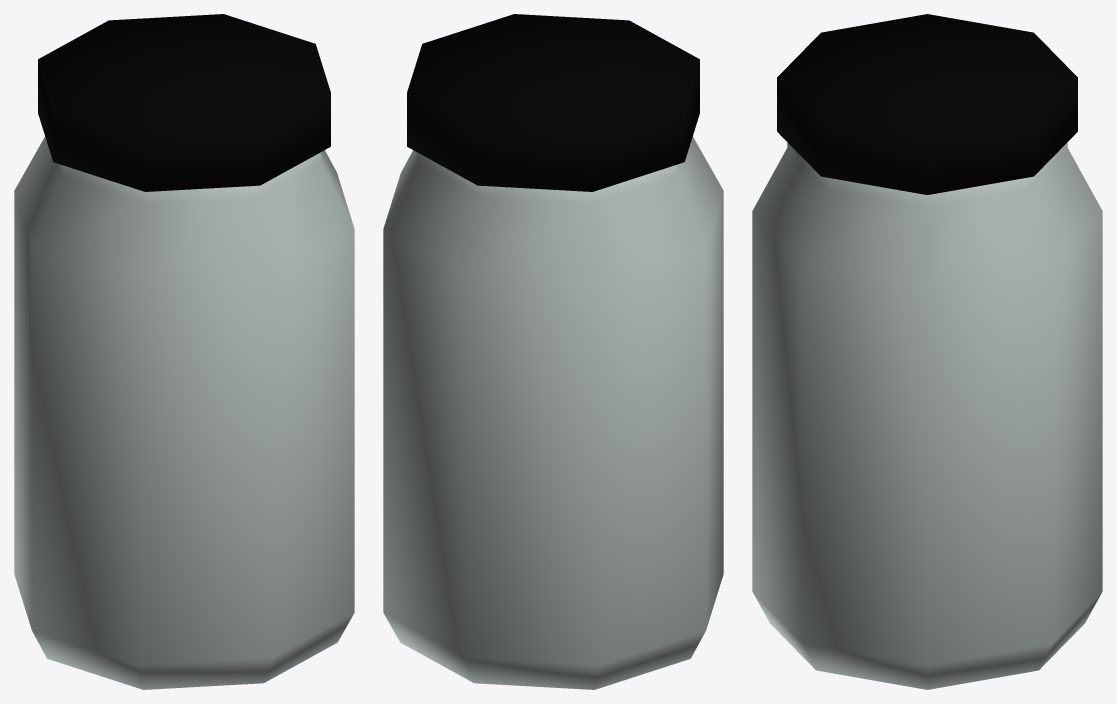
The model's file is jar_lod1_web.glb.
The picture shows the model from 3 angles, left to right: view 1: azimuth 30°, elevation 25°; view 2: azimuth 150°, elevation 25°; view 3: azimuth 270°, elevation 25°; orthographic projection.
Visible parts, largest first — view 1: Glass_Jar, Jar_Lid; view 2: Glass_Jar, Jar_Lid; view 3: Glass_Jar, Jar_Lid.
Part boxes in pixels (bbox=[...]): Glass_Jar: bbox=[14, 136, 354, 689]; Jar_Lid: bbox=[38, 14, 330, 191]; Glass_Jar: bbox=[383, 136, 723, 689]; Jar_Lid: bbox=[407, 14, 699, 191]; Glass_Jar: bbox=[752, 142, 1102, 689]; Jar_Lid: bbox=[777, 14, 1077, 194].
Size of the model in its own units: 0.1 by 0.172 by 0.1.
2 materials, 1 textured.
